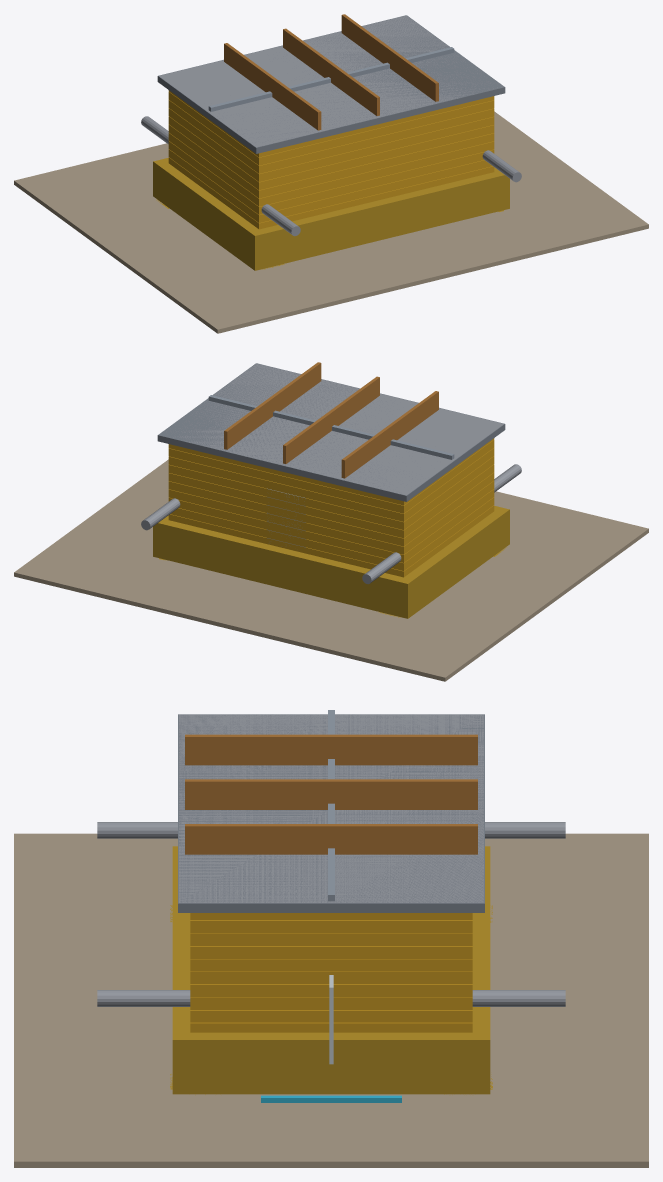
Rendered from stage_09_roof_structure.glb.
The picture shows the model from 3 angles, top to bottom: view 1: azimuth 30°, elevation 25°; view 2: azimuth 150°, elevation 25°; view 3: azimuth 270°, elevation 25°; orthographic projection. The views are drawn at different scales.
Visible parts, largest first — view 1: world; view 2: world; view 3: world.
Boxes of the visible parts, left/top/right/bottom form: world: left=14, top=14, right=648, bottom=333; world: left=14, top=362, right=648, bottom=681; world: left=14, top=710, right=648, bottom=1167.
Bounding box in the file's own units: 11 × 4.2 × 9.
